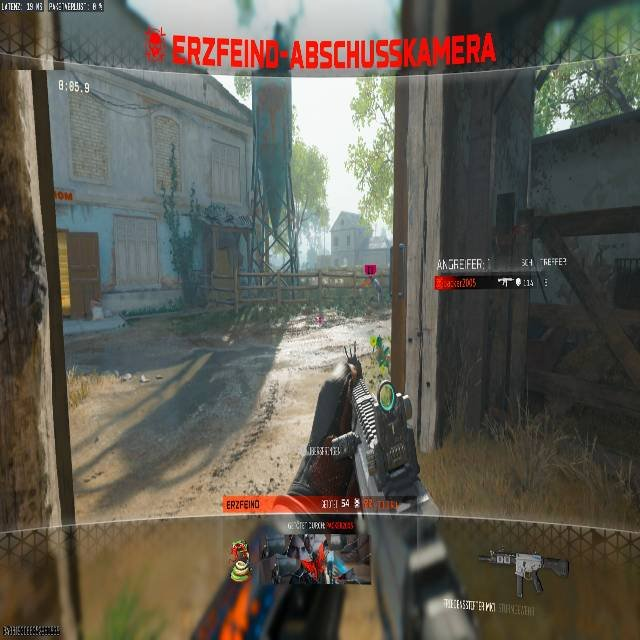player: (371, 277, 382, 301)
